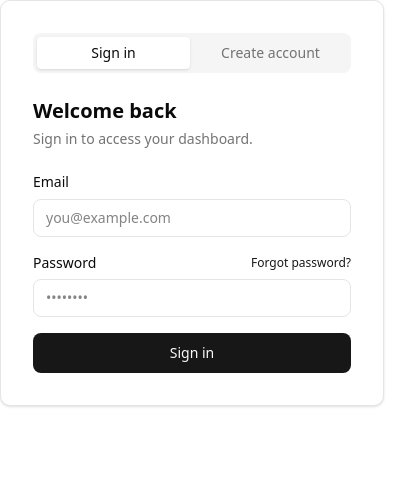
release scenario — signup › surfaces a duplicate-account rejection from the auth service
Click the button "Create account" at point(270, 53), box [194, 37, 347, 69]
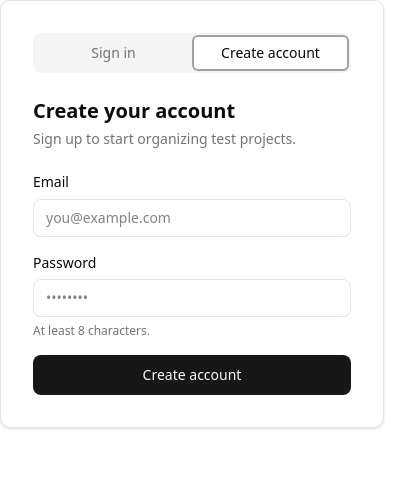
Type "taken@example.com" into the field labelled "Email" at point(192, 218), box [33, 199, 351, 237]
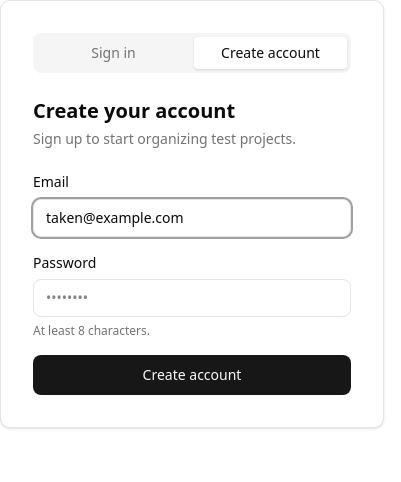
Type "correct horse battery" into the password field labelled "Password" at point(192, 298), box [33, 279, 351, 317]
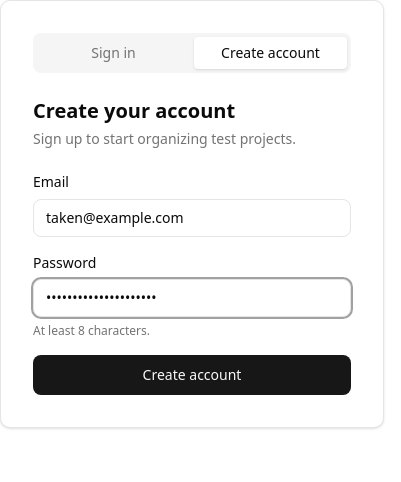
Click the button "Create account" below "At least 8 characters." at point(192, 375), box [33, 355, 351, 395]
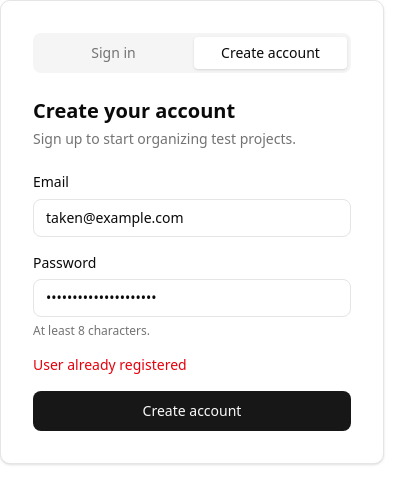
Expected: the message shows "already registered", [33, 355, 187, 374]
